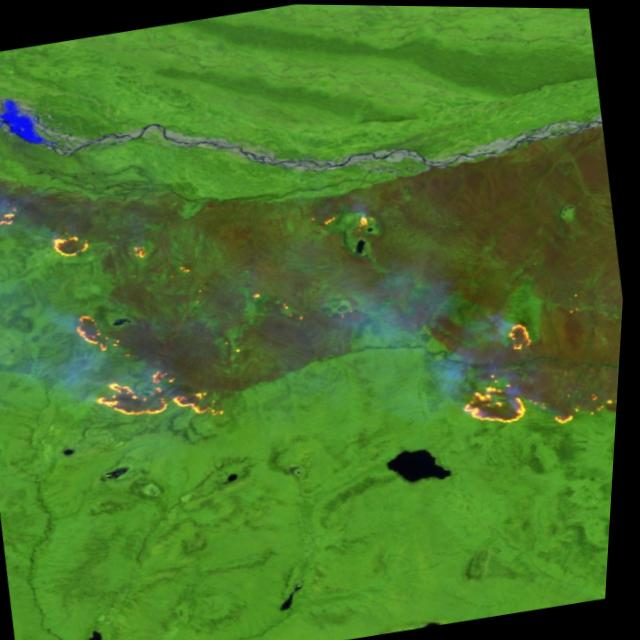fire: (438, 297, 626, 445), (96, 351, 244, 443), (62, 295, 136, 364), (0, 147, 45, 241), (41, 220, 108, 272)
